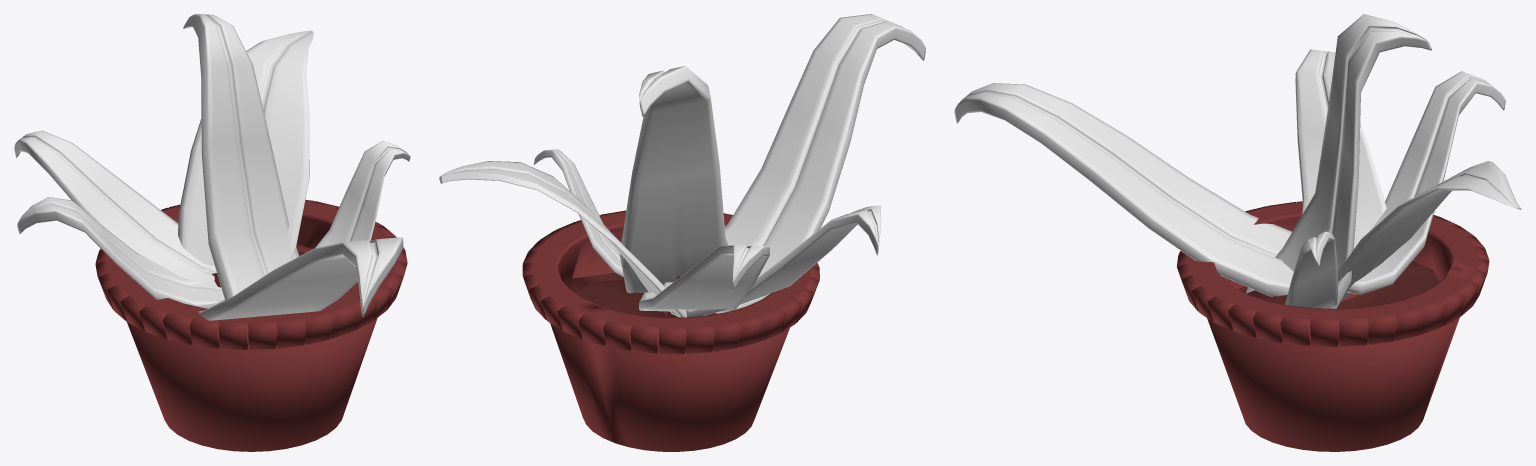
File: planta.fbx
The picture shows the model from 3 angles, left to right: view 1: azimuth 30°, elevation 25°; view 2: azimuth 150°, elevation 25°; view 3: azimuth 270°, elevation 25°; orthographic projection. The views are drawn at different scales.
Parts seen in each view (by area): view 1: planta; view 2: planta; view 3: planta.
Boxes of the visible parts, <box> form: planta: <box>14,14,410,451</box>; planta: <box>439,14,925,451</box>; planta: <box>954,14,1521,451</box>.
Bounding box in the file's own units: 64.17 × 62.72 × 83.43.
